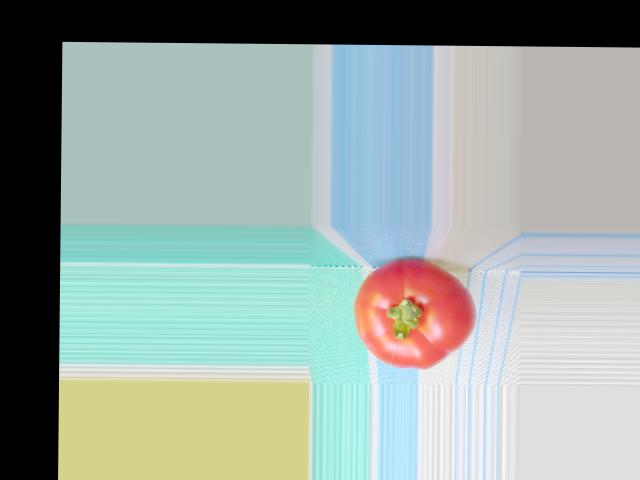tomato: (353, 257, 475, 369)
